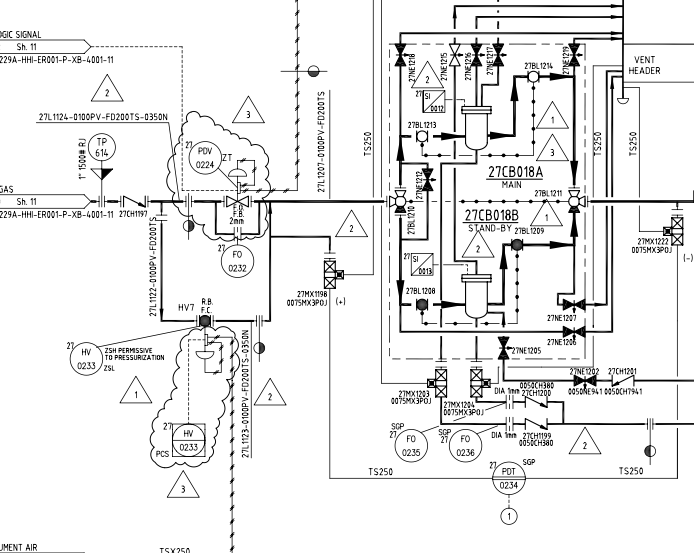Instrument: (375, 424, 429, 465), (439, 428, 484, 464), (487, 460, 530, 496), (67, 340, 102, 374)
Instrument-square: (162, 419, 208, 458)
